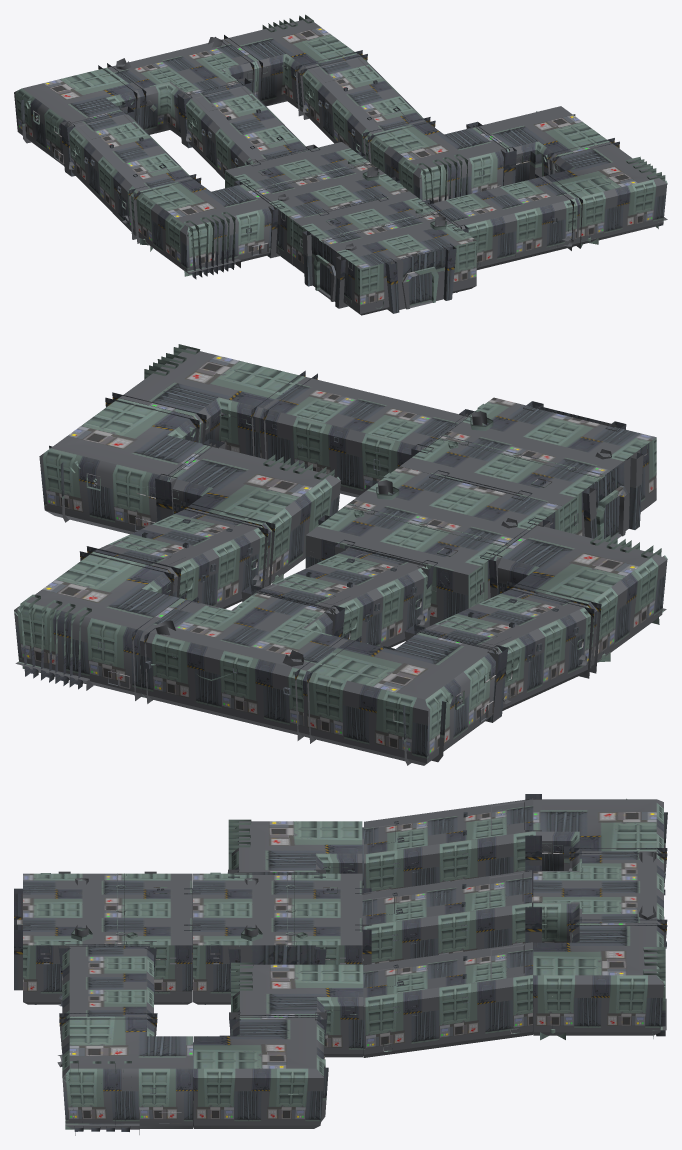
File: Combined_Mesh_root_scene__6_2d4a9e78__zombies2_diffuse_06_4771cff4_c1f257.obj
3 renders of one model, top to bottom at view 1: azimuth 30°, elevation 25°; view 2: azimuth 150°, elevation 25°; view 3: azimuth 270°, elevation 25°, orthographic. The views are drawn at different scales.
Bounding box in the file's own units: 71.92 × 12.27 × 77.15.
202 materials, 202 textured.
